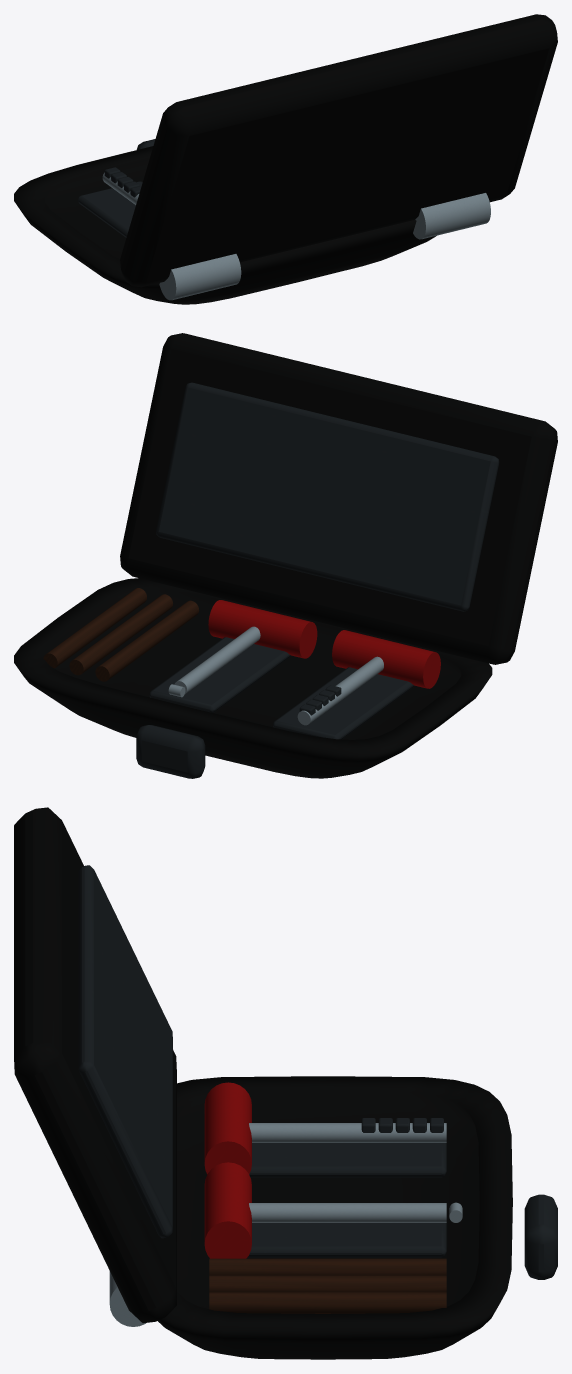
File: TirePatchKit.gltf
3 views of the same model, one above another, from view 1: azimuth 30°, elevation 25°; view 2: azimuth 150°, elevation 25°; view 3: azimuth 270°, elevation 25° (orthographic). The views are drawn at different scales.
Visible parts, largest first — view 1: TirePatchKit__Body; view 2: TirePatchKit__Body; view 3: TirePatchKit__Body.
Boxes of the visible parts, left/top/right/bottom form: TirePatchKit__Body: left=14, top=14, right=557, bottom=304; TirePatchKit__Body: left=14, top=333, right=557, bottom=778; TirePatchKit__Body: left=14, top=807, right=557, bottom=1359.
Size of the model in its own units: 0.168 by 0.1099 by 0.153.
Materials: 1 (1 with a texture image).
